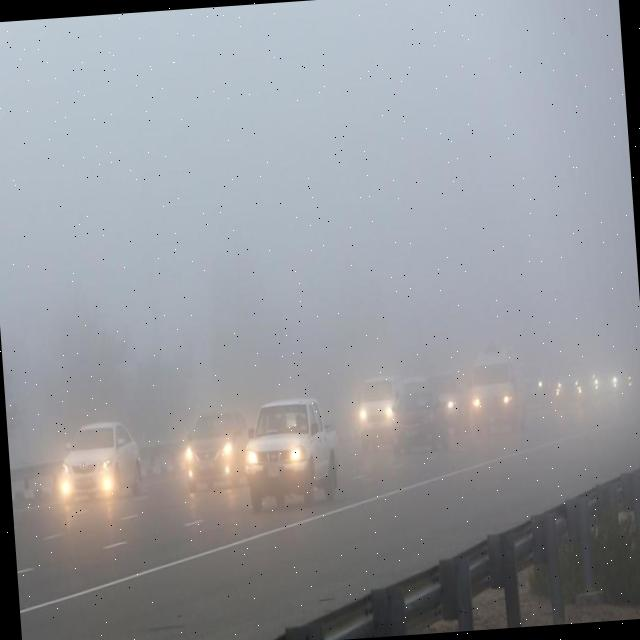car: (240, 395, 343, 513), (56, 418, 144, 498), (183, 409, 254, 492), (462, 350, 528, 438), (392, 375, 451, 453), (354, 371, 404, 452), (430, 368, 472, 436)
